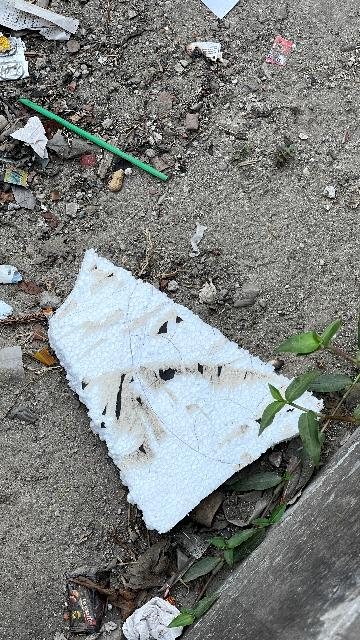cocksheet: (46, 245, 331, 538)
